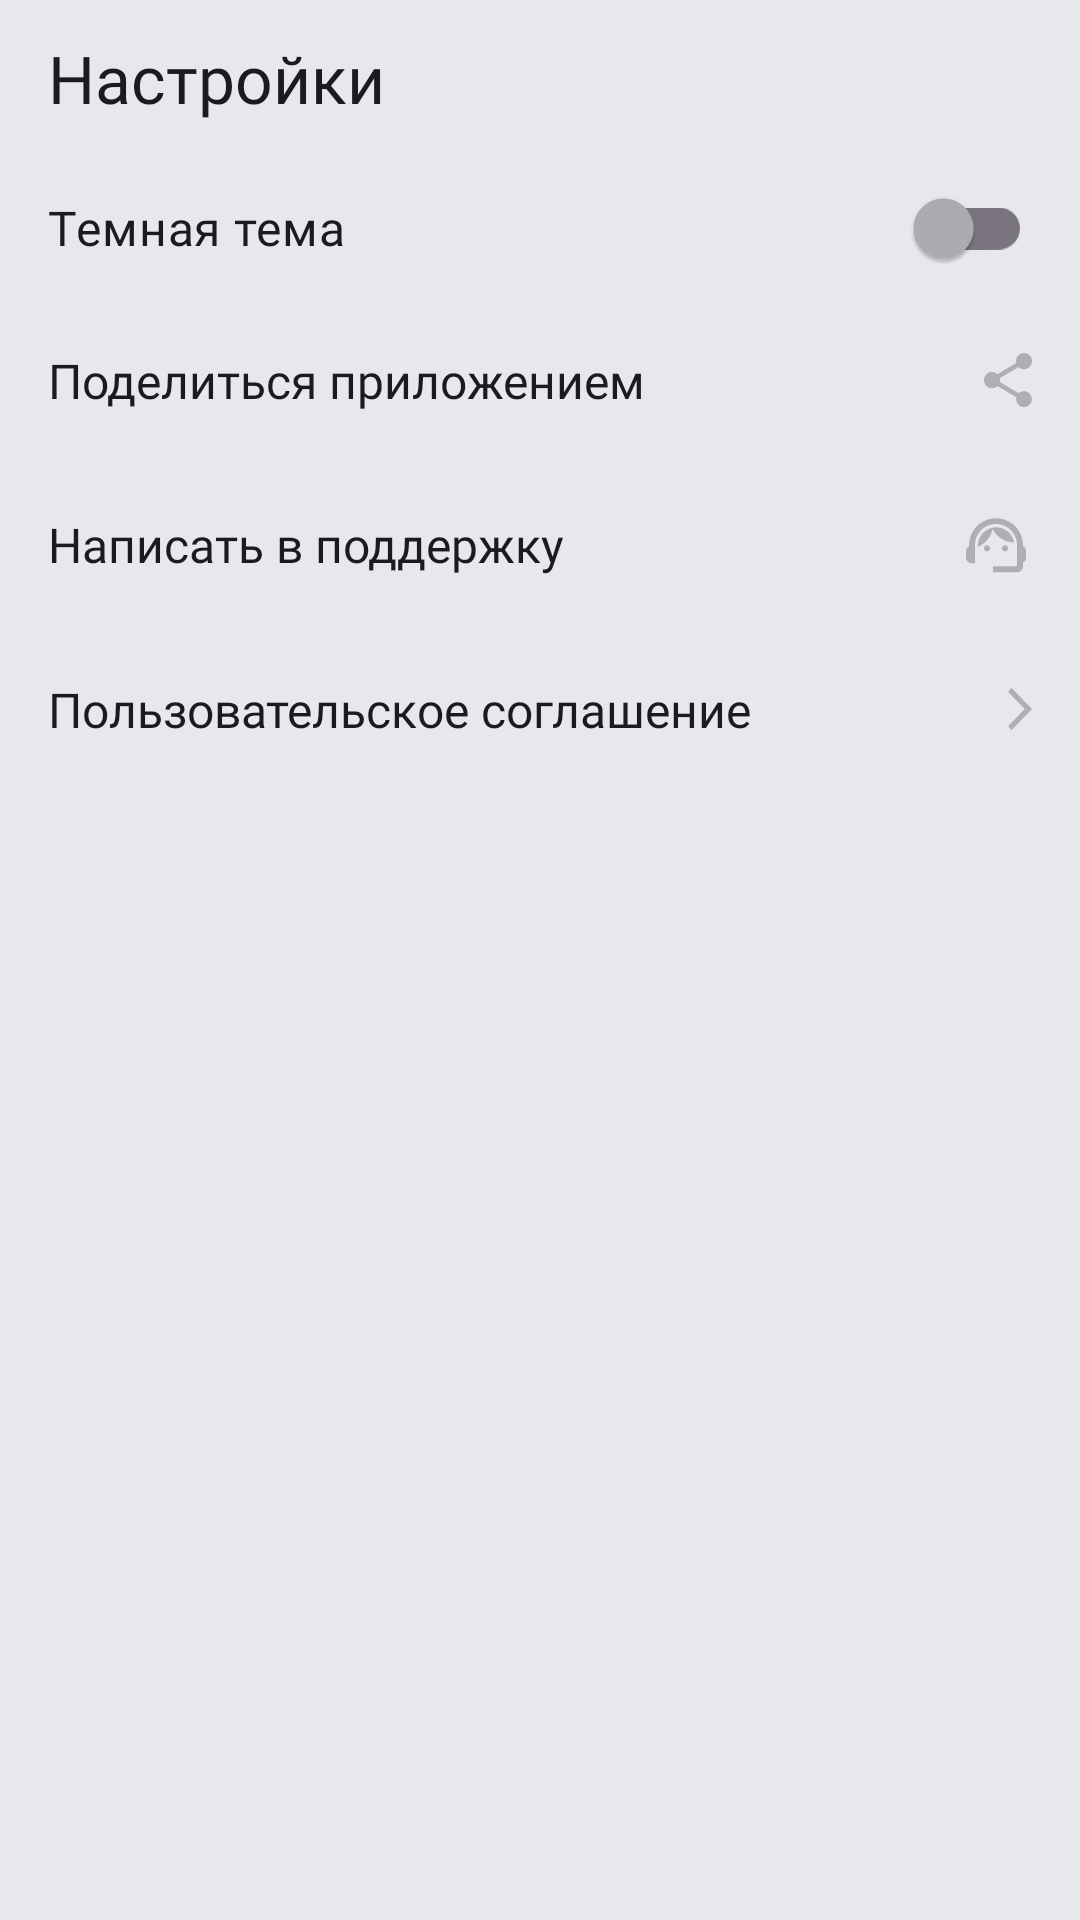

Where to tap for icons on this 1080 x 1920 app screen, as (x,y):
Написать в поддержку: (996,545)
Поделиться приложением: (1008,380)
